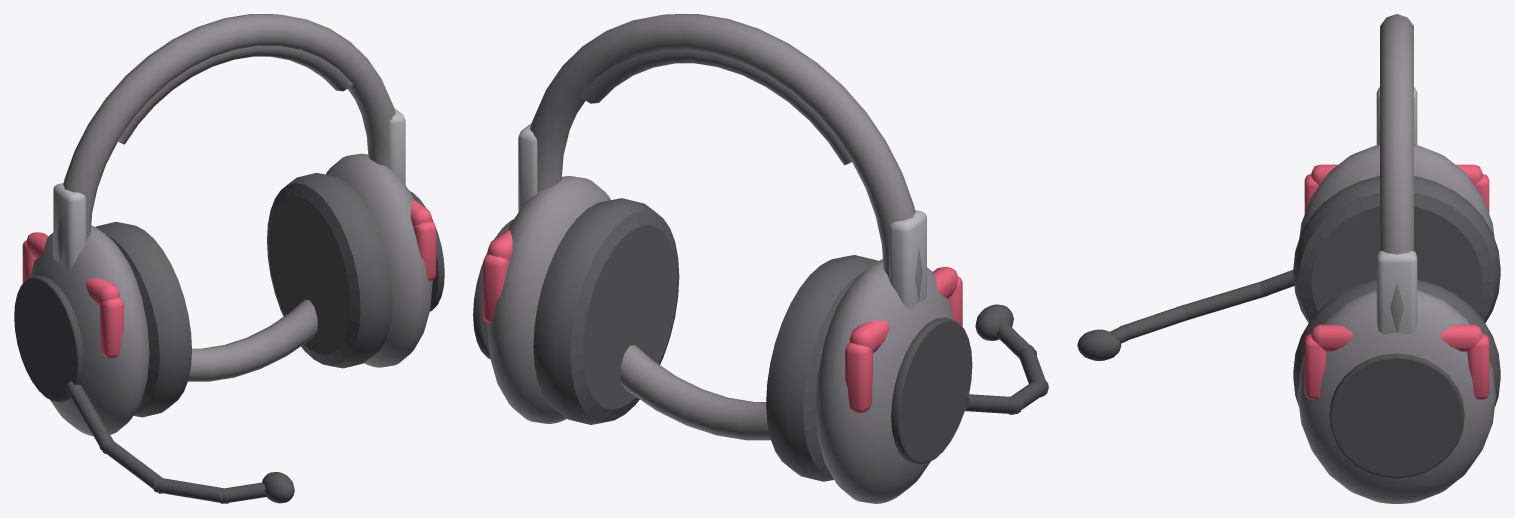
File: headset.glb
3 views of the same model, side by side, from view 1: azimuth 30°, elevation 25°; view 2: azimuth 150°, elevation 25°; view 3: azimuth 270°, elevation 25° (orthographic). The views are drawn at different scales.
Parts seen in each view (by area): view 1: headset; view 2: headset; view 3: headset.
Part boxes in pixels (bbox=[...]): headset: bbox=[14, 14, 444, 503]; headset: bbox=[473, 14, 1048, 503]; headset: bbox=[1077, 14, 1500, 503].
Bounding box in the file's own units: 0.2028 × 0.194 × 0.1878.
